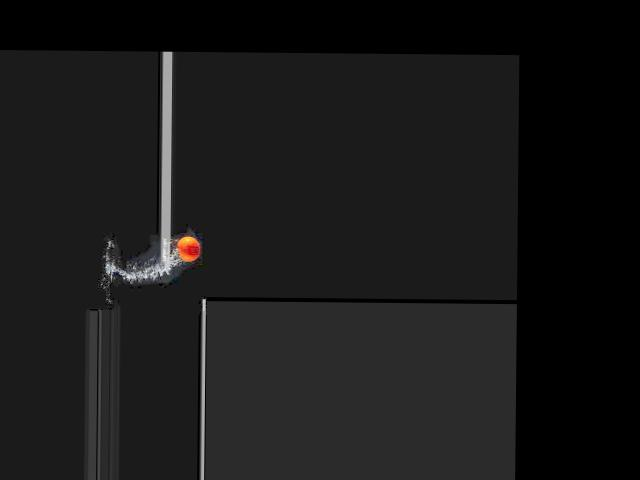tomato: (176, 235, 199, 261)
